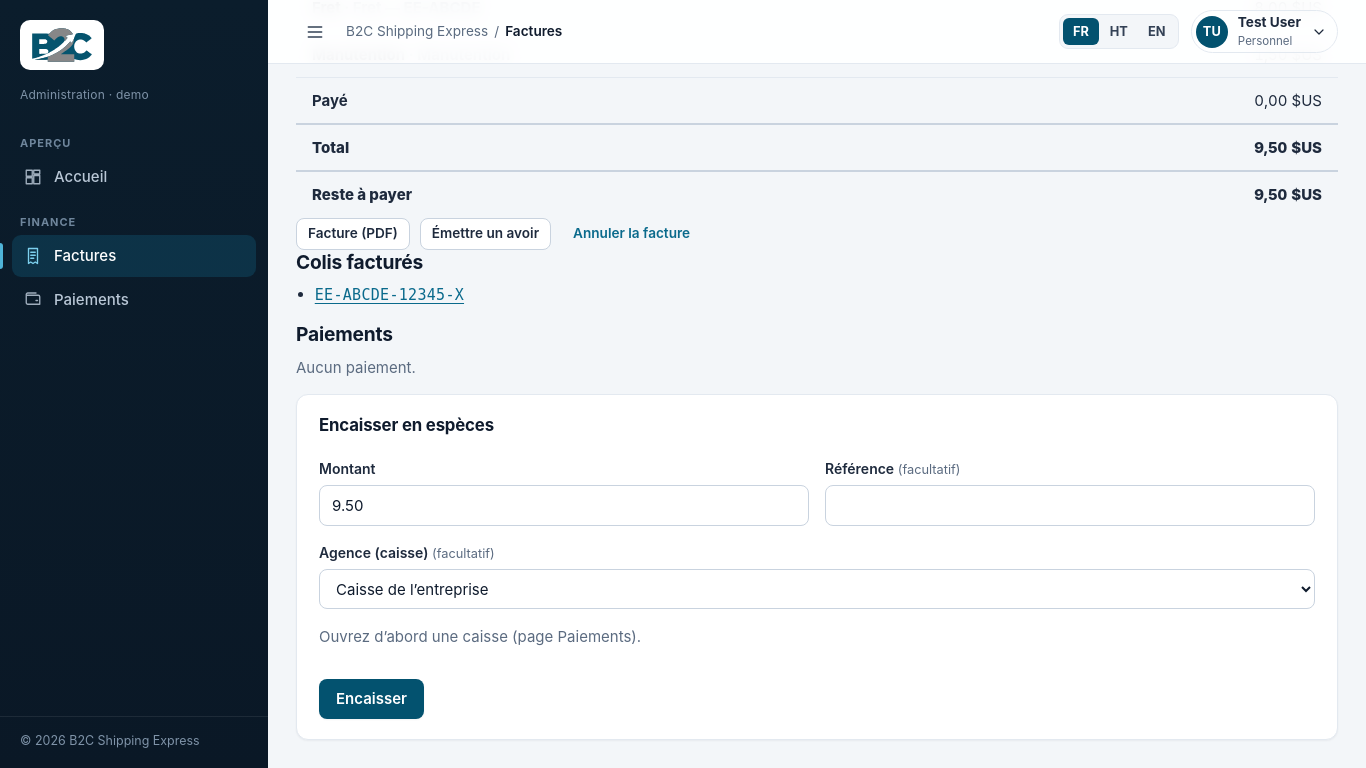
Scenario: factures (personnel) › encaissement en espèces : montant exact, Idempotency-Key, reçu annoncé
(page scrolled)
Replace the text in the field labelled "Montant" with "4,5". click: [564, 506]
box: [319, 485, 809, 526]
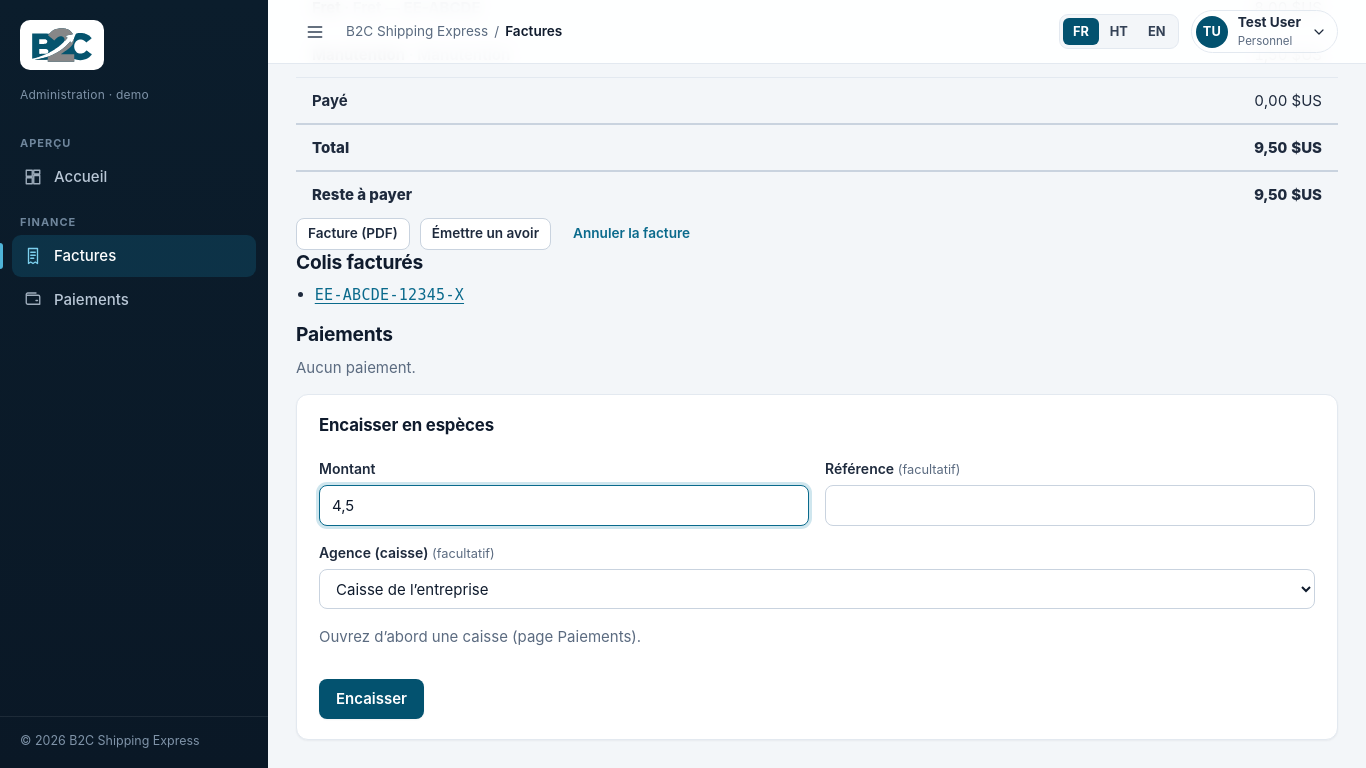
Click the button "Encaisser". click: [372, 699]
box: [319, 679, 424, 719]
(page scrolled)
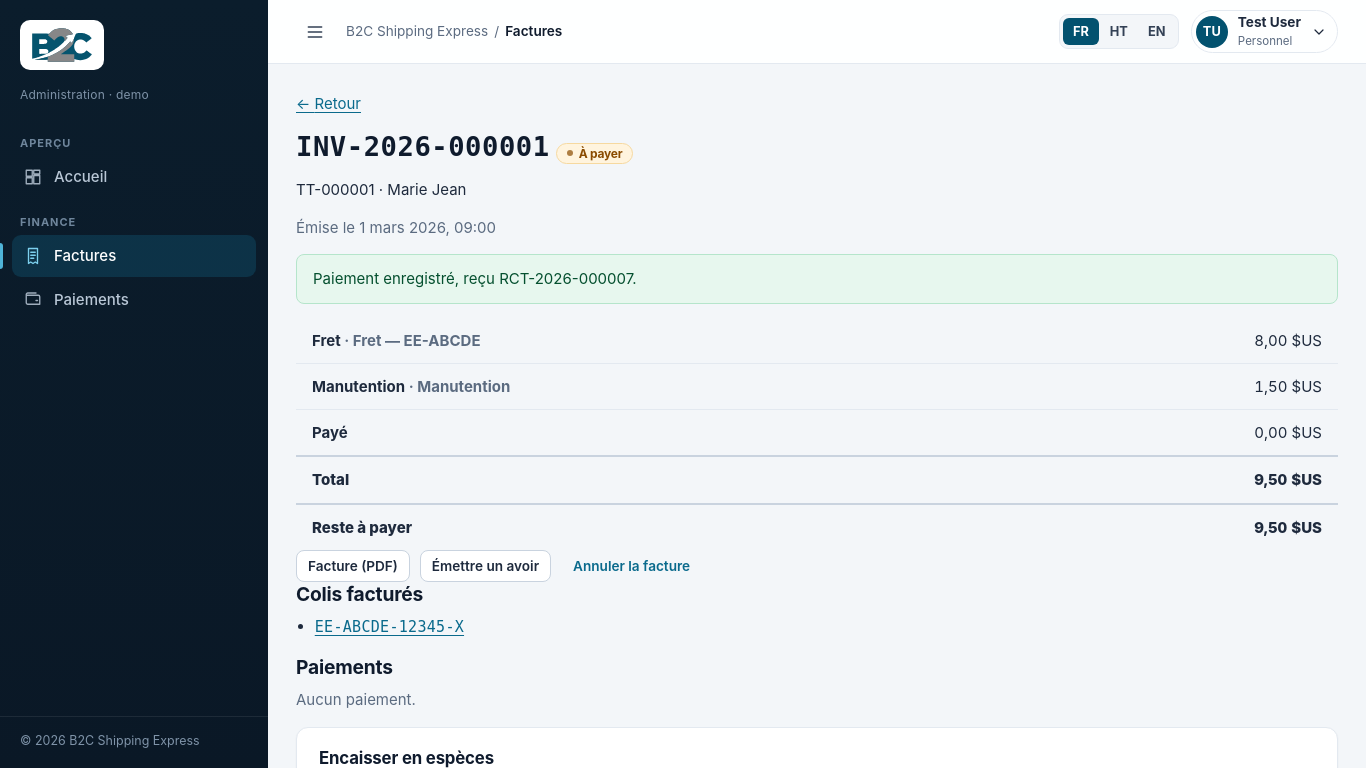
Now the text "Paiement enregistré, reçu RCT-2026-000007." is shown, box [313, 267, 637, 291]
